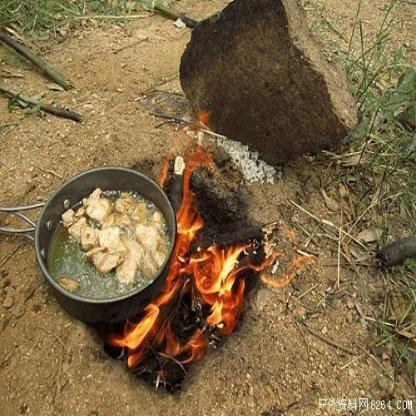fire: (112, 112, 298, 374)
